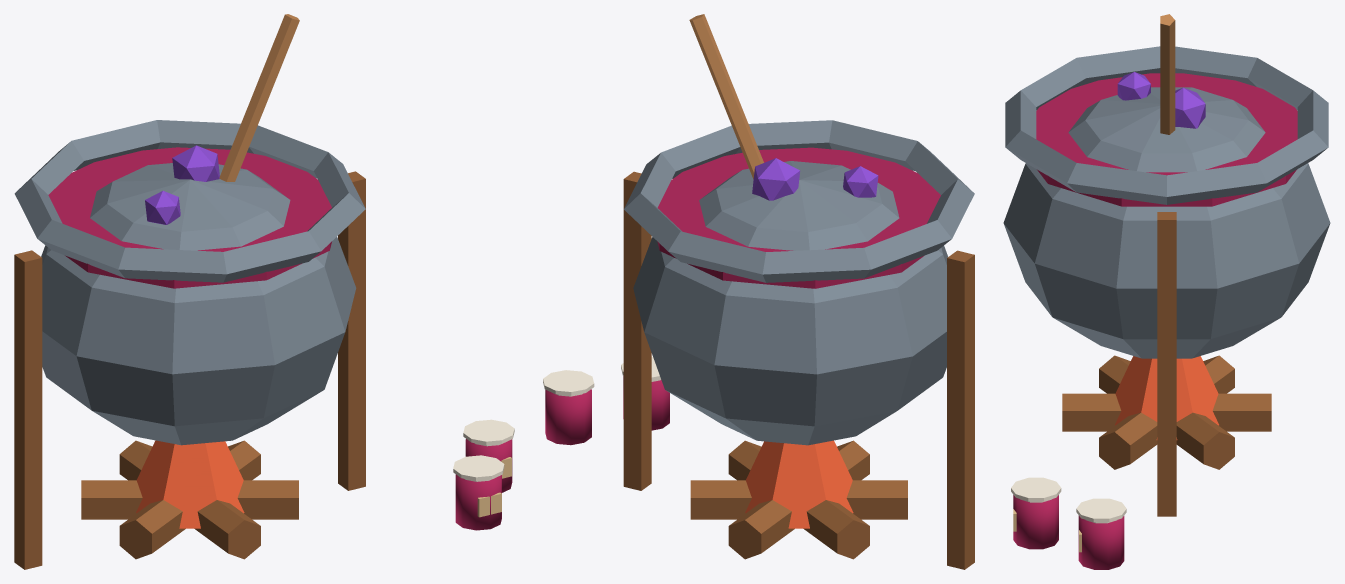
File: station_jam_cauldron.glb
The picture shows the model from 3 angles, left to right: view 1: azimuth 30°, elevation 25°; view 2: azimuth 150°, elevation 25°; view 3: azimuth 270°, elevation 25°; orthographic projection. The views are drawn at different scales.
Visible parts, largest first — view 1: station_jam_cauldron; view 2: station_jam_cauldron; view 3: station_jam_cauldron.
Boxes of the visible parts, x1,y1,x2,y2 form: station_jam_cauldron: [14, 14, 514, 569]; station_jam_cauldron: [543, 14, 974, 569]; station_jam_cauldron: [1003, 14, 1330, 569].
Size of the model in its own units: 1.55 by 1.58 by 1.
